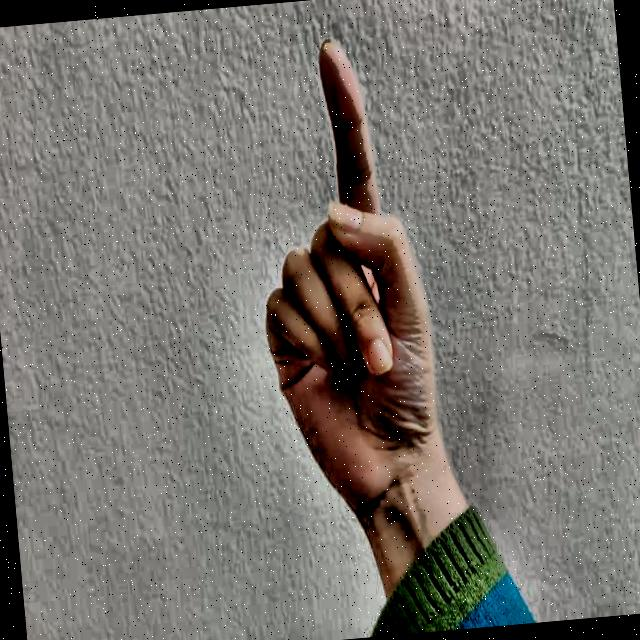U: (204, 10, 474, 518)
